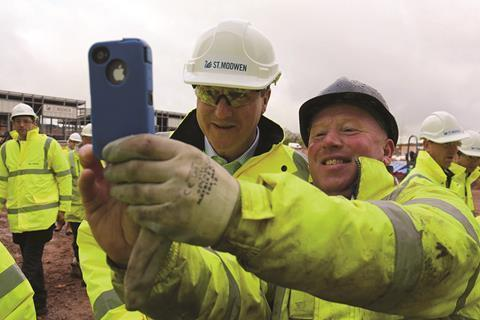helmet: (298, 76, 400, 146), (182, 19, 282, 88), (420, 111, 469, 144), (10, 103, 39, 121), (67, 132, 82, 143)
